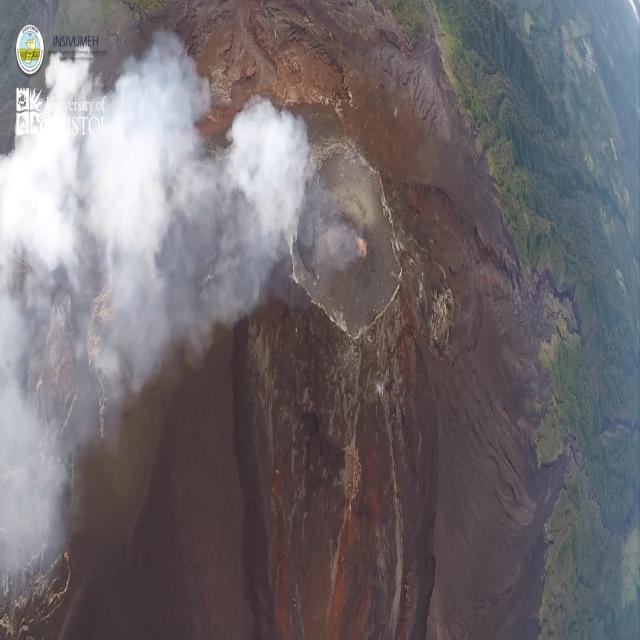Plume: (0, 43, 302, 579)
Summit: (273, 118, 412, 354)
